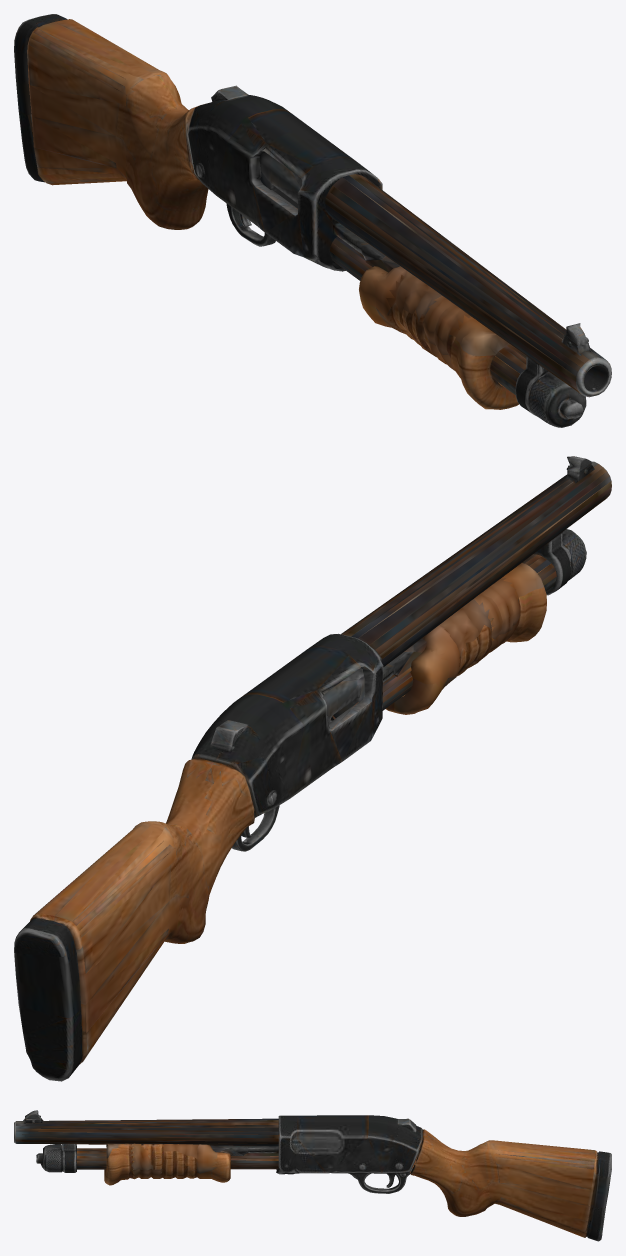
The model's file is shotgun.glb.
3 renders of one model, top to bottom at view 1: azimuth 30°, elevation 25°; view 2: azimuth 150°, elevation 25°; view 3: azimuth 270°, elevation 25°, orthographic. The views are drawn at different scales.
Parts seen in each view (by area): view 1: w_shotgun; view 2: w_shotgun; view 3: w_shotgun.
Boxes of the visible parts, x1,y1,x2,y2 form: w_shotgun: (14, 14, 611, 427); w_shotgun: (14, 456, 611, 1081); w_shotgun: (14, 1110, 611, 1241).
Bounding box in the file's own units: 0.0737 × 0.2004 × 0.85.
Materials: 1 (1 with a texture image).
